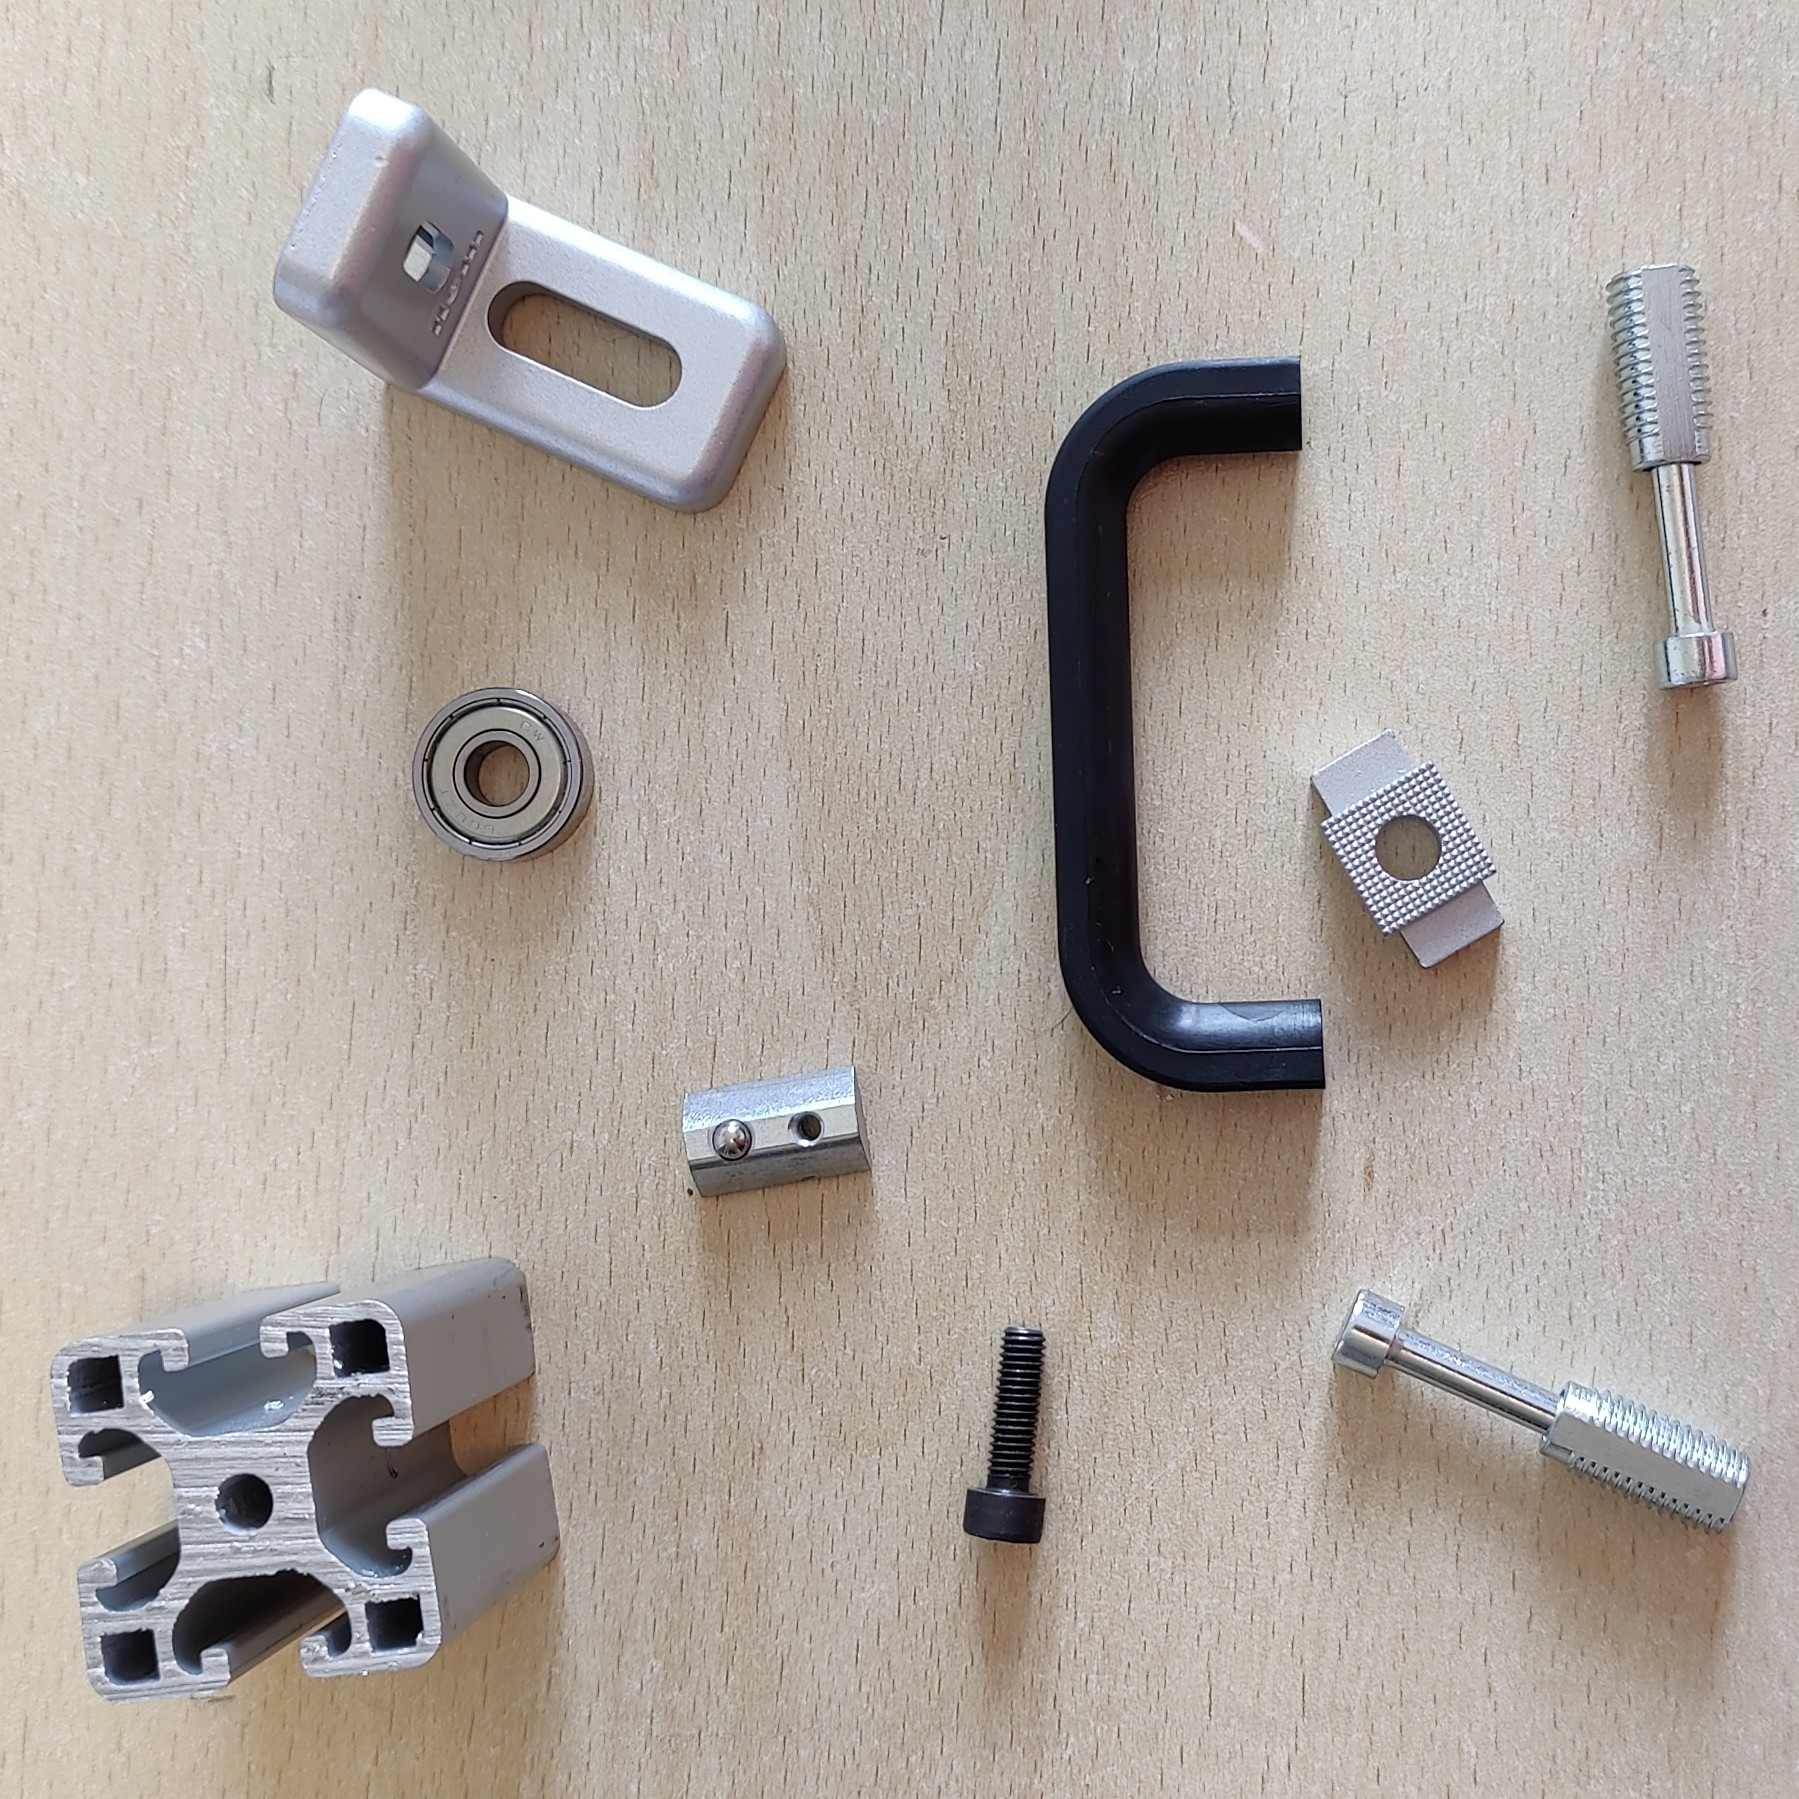Aluminium Extension: (48, 1252, 565, 1707)
Ball Bearing: (410, 684, 600, 867)
Multiwinkel: (270, 86, 791, 517)
Pull Handle: (1041, 361, 1329, 1096)
Shoulder Socket Head Cap Screw: (1326, 1287, 1753, 1540), (1600, 260, 1741, 699)
Socket Head Cap Screw: (960, 1321, 1053, 1549)
T Nut Square: (1306, 730, 1511, 975)
T Spring Nut: (680, 1059, 875, 1199)
